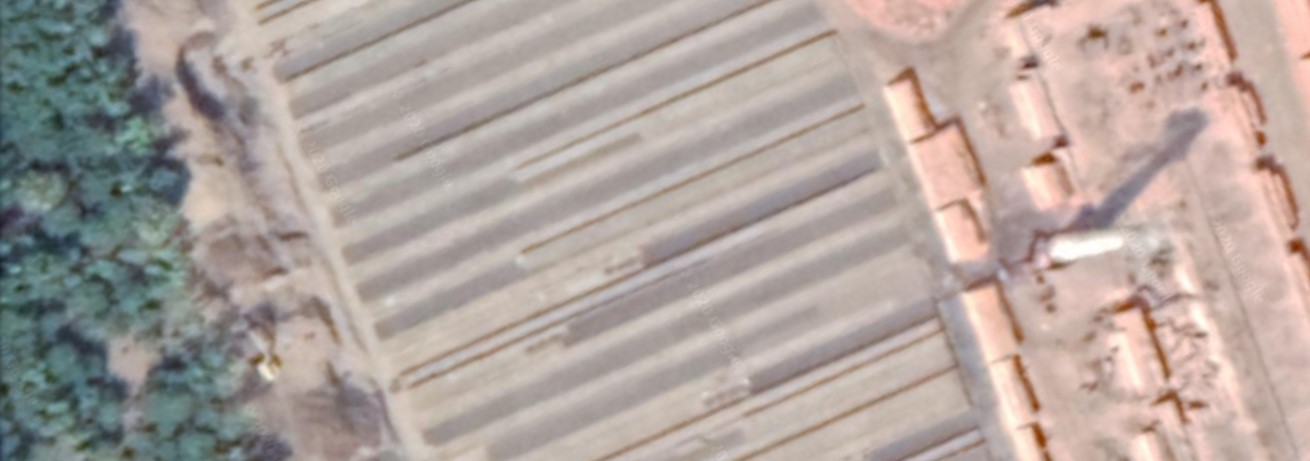kiln: (843, 10, 1281, 456)
